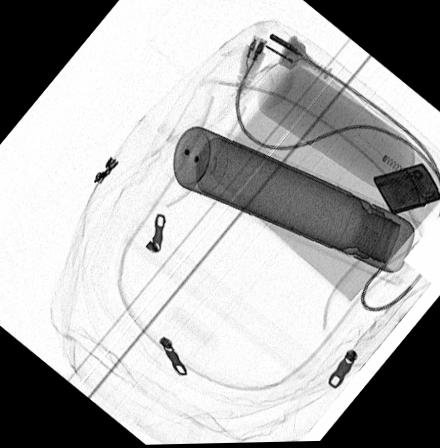Lighter: (372, 164, 440, 217)
